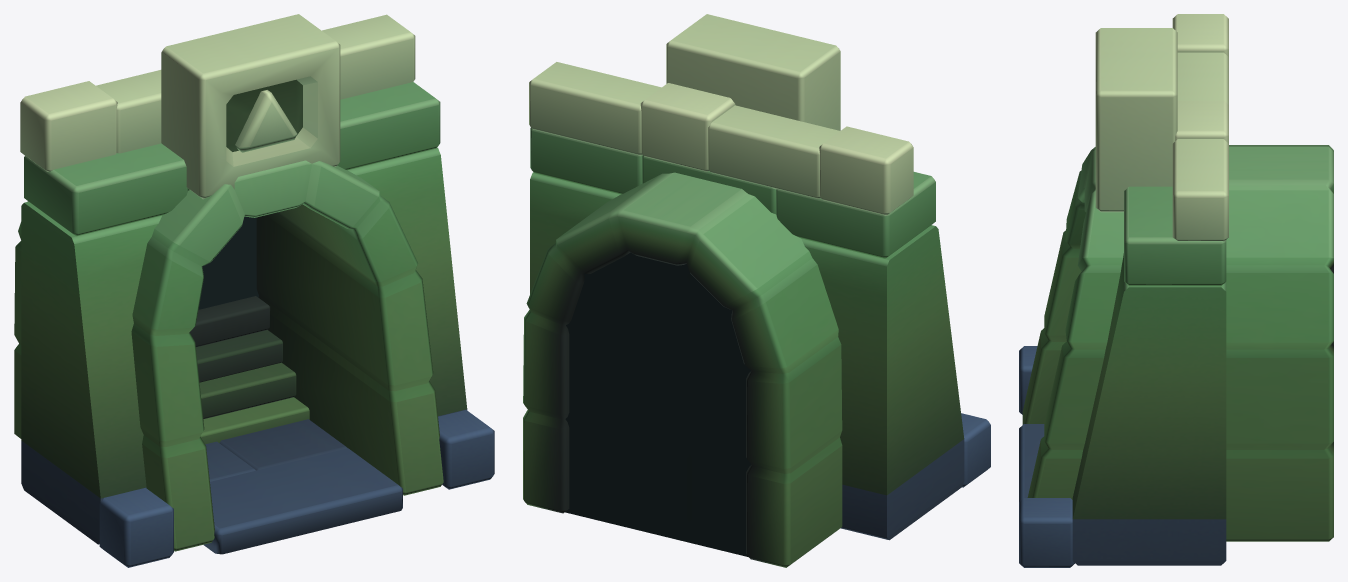
Rendered from doorway_up_wall.fbx.
3 views of the same model, side by side, from view 1: azimuth 30°, elevation 25°; view 2: azimuth 150°, elevation 25°; view 3: azimuth 270°, elevation 25° (orthographic). The views are drawn at different scales.
Visible parts, largest first — view 1: doorway_up_wall; view 2: doorway_up_wall; view 3: doorway_up_wall.
Part boxes in pixels (left/top/right/bottom): doorway_up_wall: left=14, top=14, right=494, bottom=567; doorway_up_wall: left=523, top=14, right=990, bottom=567; doorway_up_wall: left=1019, top=14, right=1333, bottom=567.
Size of the model in its own units: 405 by 463 by 308.
